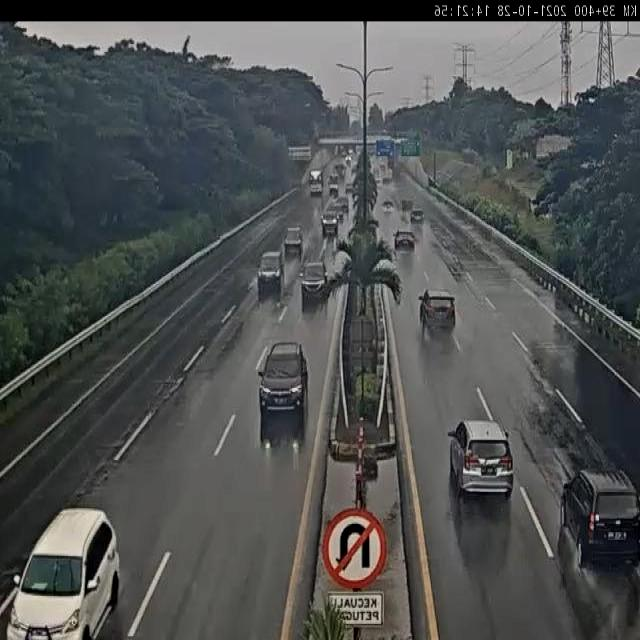Bus: (308, 169, 325, 198)
Car: (4, 503, 123, 640), (558, 465, 640, 571), (447, 418, 518, 504), (256, 339, 311, 418), (418, 289, 456, 336), (299, 260, 329, 298), (256, 249, 284, 285), (282, 225, 304, 252), (320, 210, 340, 235), (394, 230, 416, 250), (327, 202, 344, 224), (335, 195, 350, 212), (400, 198, 414, 212), (382, 200, 394, 215), (412, 209, 424, 222), (344, 181, 355, 195)
